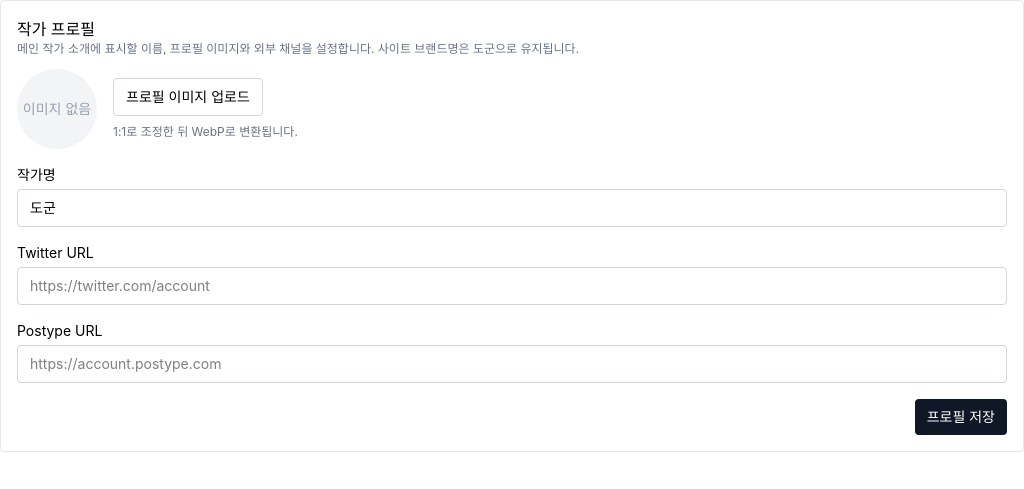
Test: ArtistProfileEditor › http(s)가 아닌 외부 링크는 저장하지 않는다
This screenshot has width=1024, height=489.
Type "javascript:alert(1)" into the field labelled "Twitter URL" at (512,286), box x1=17 y1=267 x2=1007 y2=305
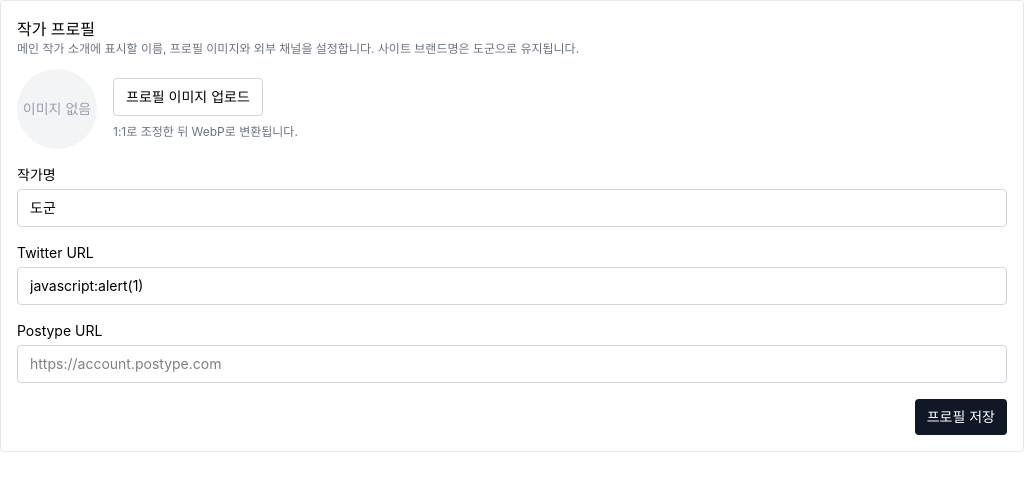
Click the button "프로필 저장" at (961,417), box x1=915 y1=399 x2=1007 y2=435
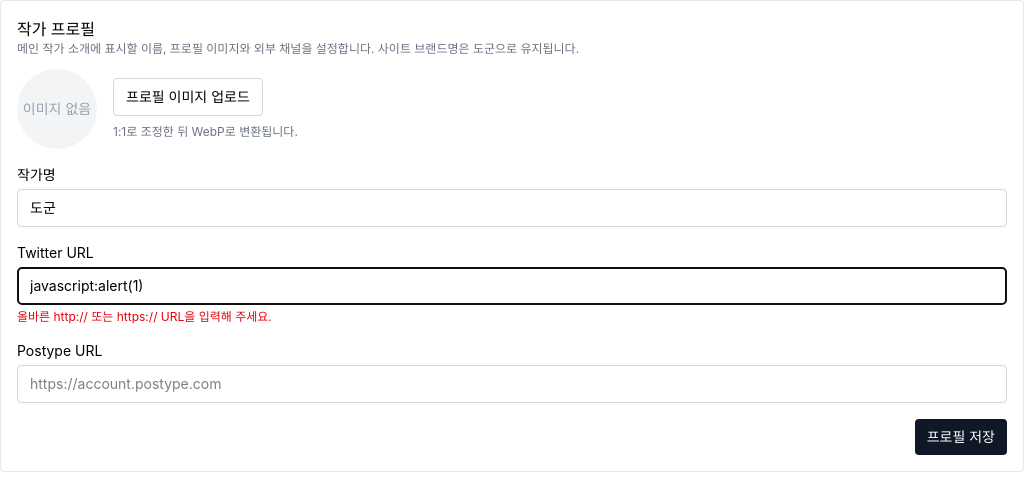
Expected: the text "올바른 http:// 또는 https:// URL을 입력해 주세요." is shown, x1=17 y1=309 x2=272 y2=324
